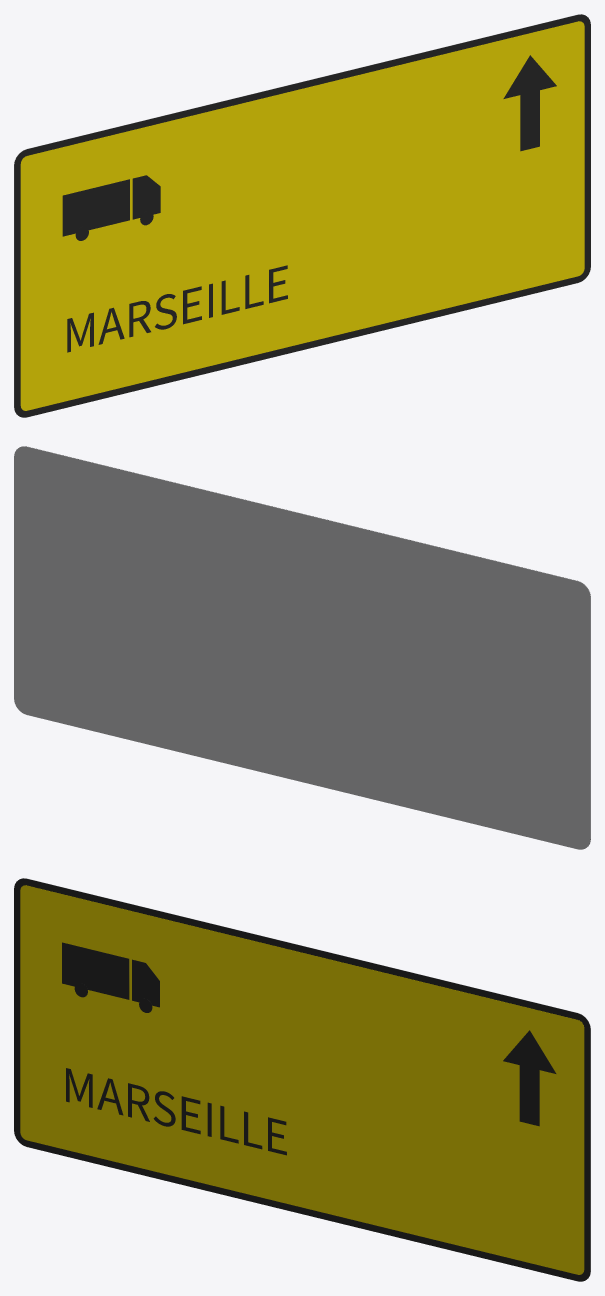
3 views of the same model, one above another, from view 1: azimuth 30°, elevation 25°; view 2: azimuth 150°, elevation 25°; view 3: azimuth 330°, elevation 25° (orthographic).
Visible parts, largest first — view 1: KD43d_fond01, KD43d_cadre00, KD43d_txt07, KD43d_caisse03, KD43d_fl02, KD43d_cabine04, KD43d_dos; view 2: KD43d_dos; view 3: KD43d_fond01, KD43d_cadre00, KD43d_txt07, KD43d_caisse03, KD43d_fl02, KD43d_cabine04, KD43d_dos.
Part boxes in pixels (x1,y1,x2,y2): KD43d_fond01: (20, 21, 584, 410); KD43d_cadre00: (14, 14, 590, 417); KD43d_txt07: (67, 265, 287, 352); KD43d_caisse03: (62, 179, 129, 236); KD43d_fl02: (503, 55, 556, 151); KD43d_cabine04: (132, 175, 160, 219); KD43d_dos: (14, 14, 580, 409); KD43d_dos: (14, 446, 590, 849); KD43d_fond01: (20, 885, 584, 1274); KD43d_cadre00: (14, 878, 590, 1281); KD43d_txt07: (66, 1068, 286, 1155); KD43d_caisse03: (62, 942, 129, 999); KD43d_fl02: (503, 1030, 556, 1126); KD43d_cabine04: (132, 959, 159, 1007); KD43d_dos: (24, 878, 590, 1273).
Bounding box in the file's own units: 1.8 × 0.8 × 0.0045.
